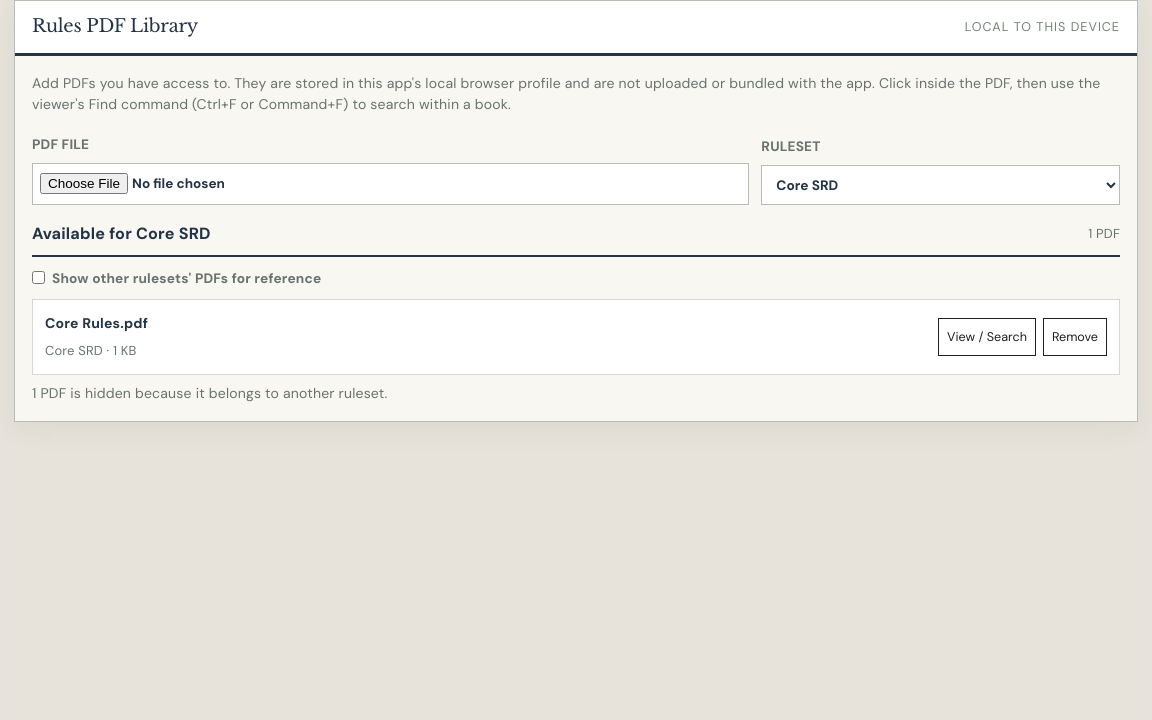
Test: PDF library screen › only lists PDFs matching the active character ruleset
Expected: the text "Core Rules.pdf" is shown, [45,310,148,336]
Expected: the text "Dragonlance Rules.pdf" is not shown
Click the checkbox labelled "Show other rulesets' PDFs for reference": (38, 278) [32,271,45,284]
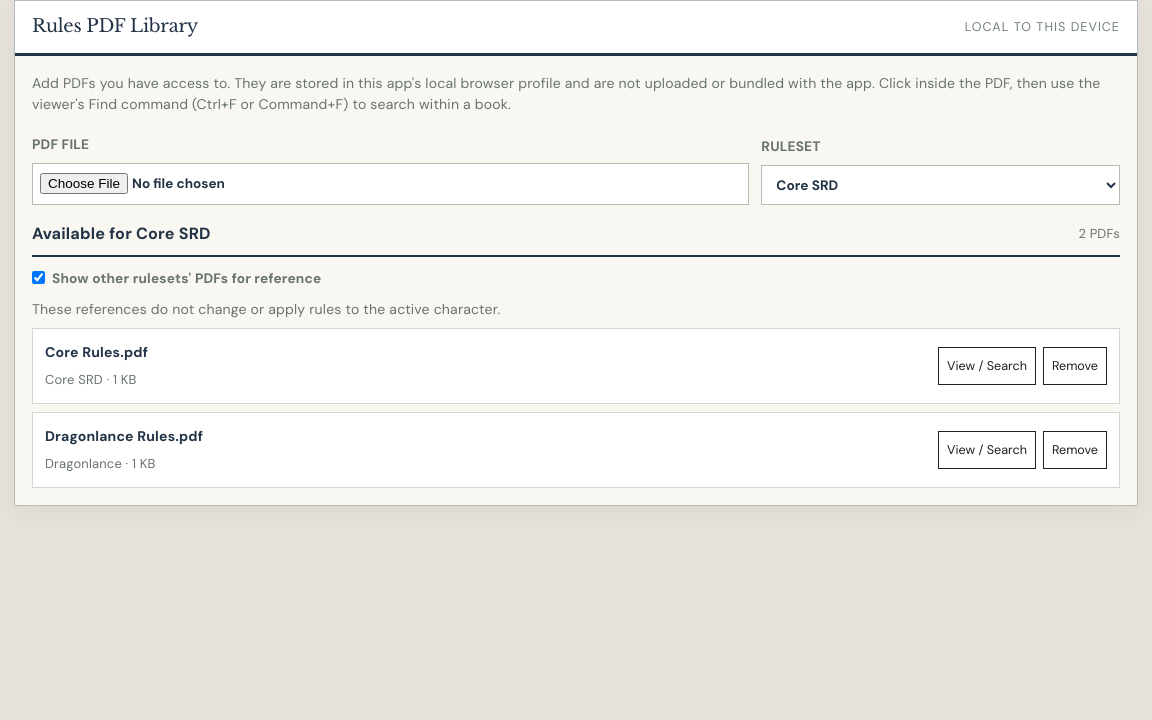
Now the text "Dragonlance Rules.pdf" is shown, box [45,423,203,449]
Now the text "These references do not change or apply rules to the active character." is shown, box [32,300,500,318]
